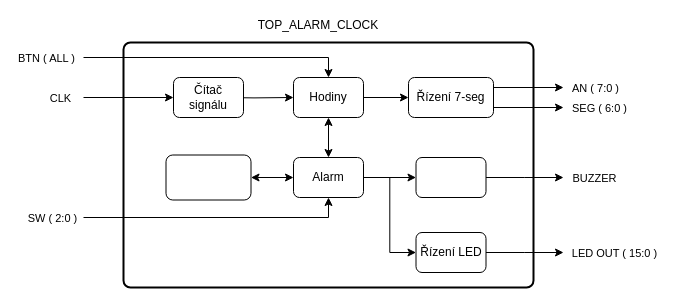
This 674x305 diagram has some shape labels left out. Each missing label, with the centre of its shape:
"Generátor signálu" goes at pixel 450 177.
"Paměť alarmu" goes at pixel 208 177.
